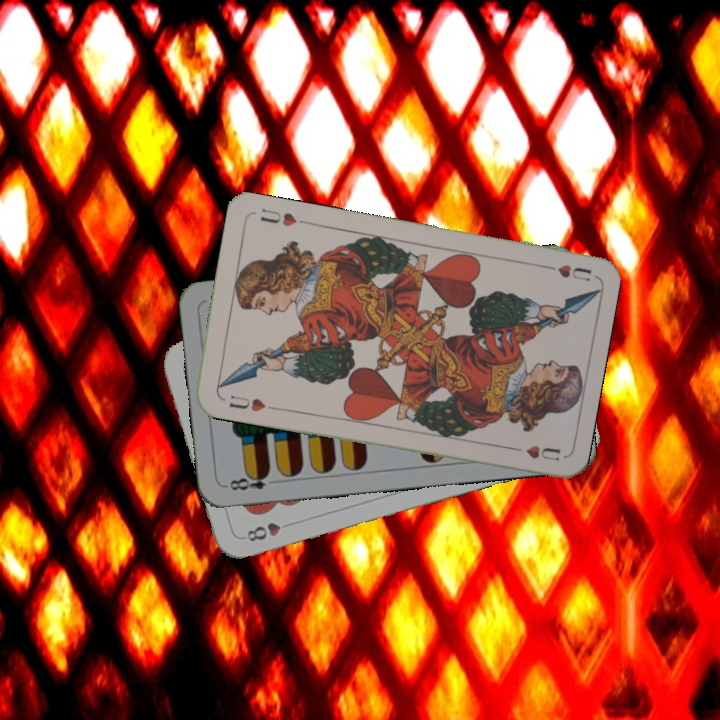E8: (222, 468, 272, 493)
H8: (243, 517, 296, 544)
HU: (536, 260, 594, 284), (225, 391, 268, 415)
